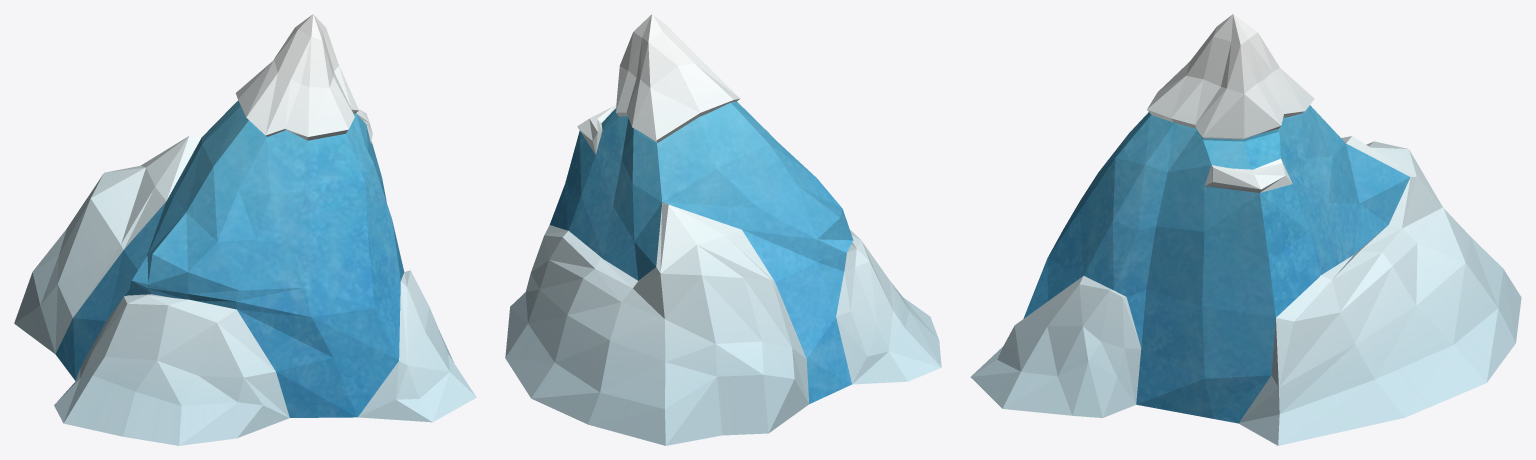
The model's file is HX-Bingshan3.FBX.
3 views of the same model, side by side, from view 1: azimuth 30°, elevation 25°; view 2: azimuth 150°, elevation 25°; view 3: azimuth 270°, elevation 25° (orthographic). The views are drawn at different scales.
Visible parts, largest first — view 1: bingshan3, jixue3; view 2: jixue3, bingshan3; view 3: jixue3, bingshan3.
Part boxes in pixels (left/top/right/bottom): bingshan3: left=55, top=100, right=404, bottom=417; jixue3: left=14, top=14, right=476, bottom=445; jixue3: left=505, top=14, right=941, bottom=445; bingshan3: left=549, top=101, right=853, bottom=403; jixue3: left=970, top=14, right=1521, bottom=445; bingshan3: left=1023, top=105, right=1410, bottom=423.
Bounding box in the file's own units: 10668 × 8205 × 11231.
